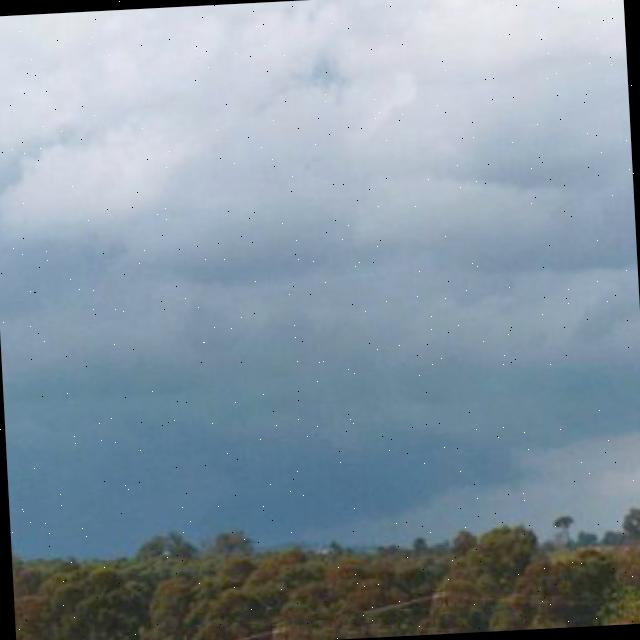Sc: (1, 1, 640, 460)
